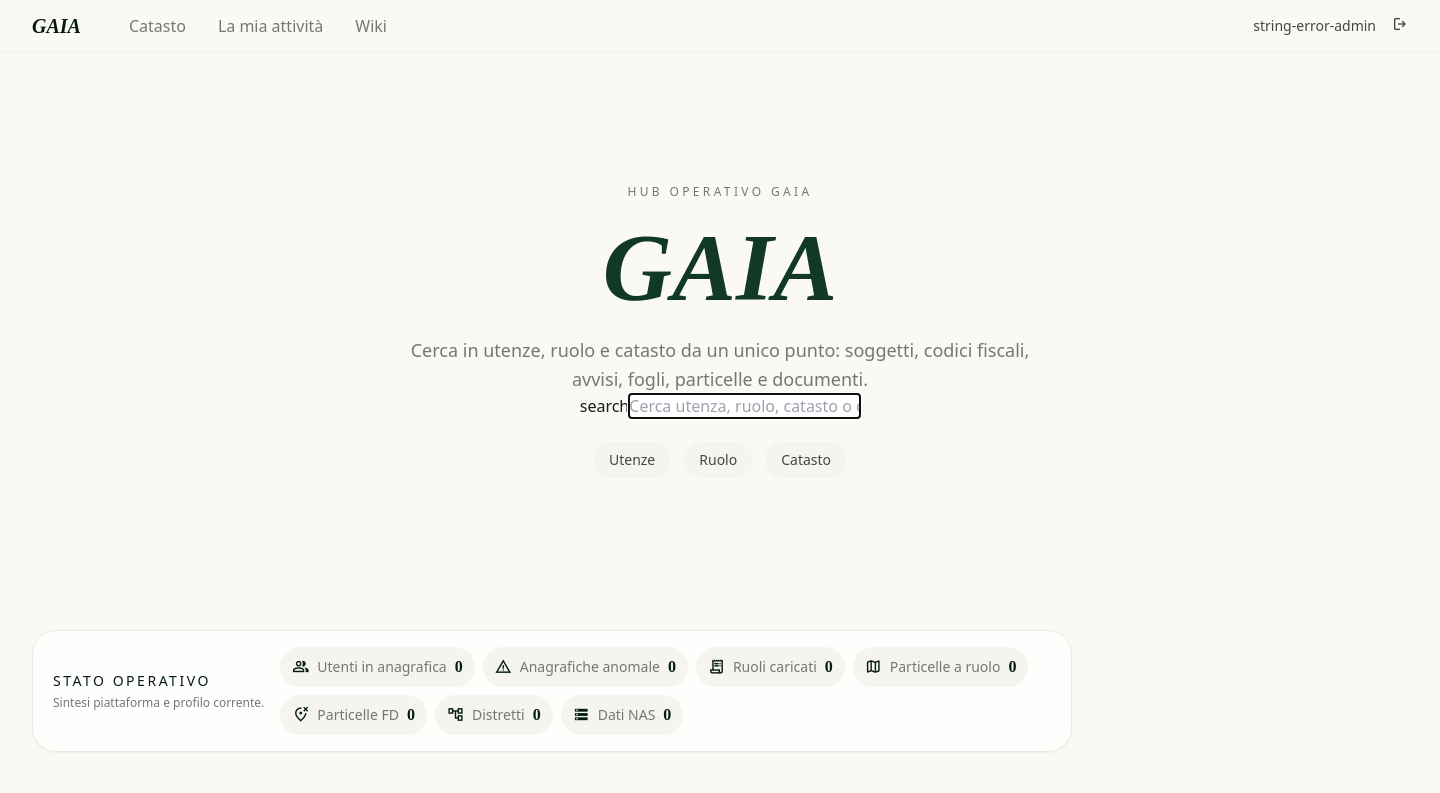
Scenario: HomePage presence widget › normalizes non-error operational search failures
This screenshot has width=1440, height=793.
Expected: the text "Hub operativo GAIA" is shown, top-left (627, 183), bottom-right (812, 200)
Type "particella" into the field with placeholder "Cerca utenza, ruolo, catasto o coordinate…". click: coordinates (745, 406)
box: top-left (629, 394), bottom-right (860, 418)
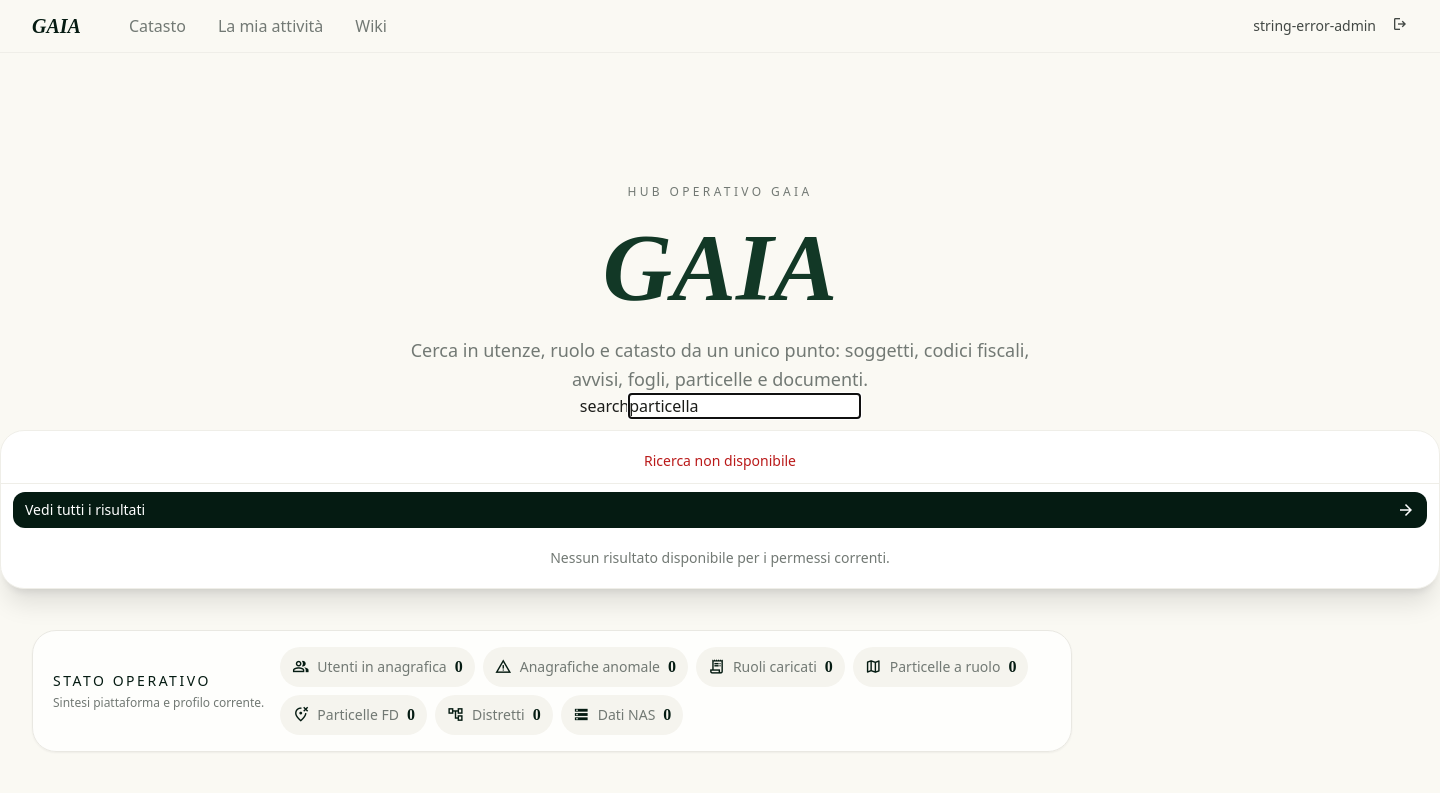
Result: the text "Ricerca non disponibile" is shown at top-left (644, 451), bottom-right (796, 470)
